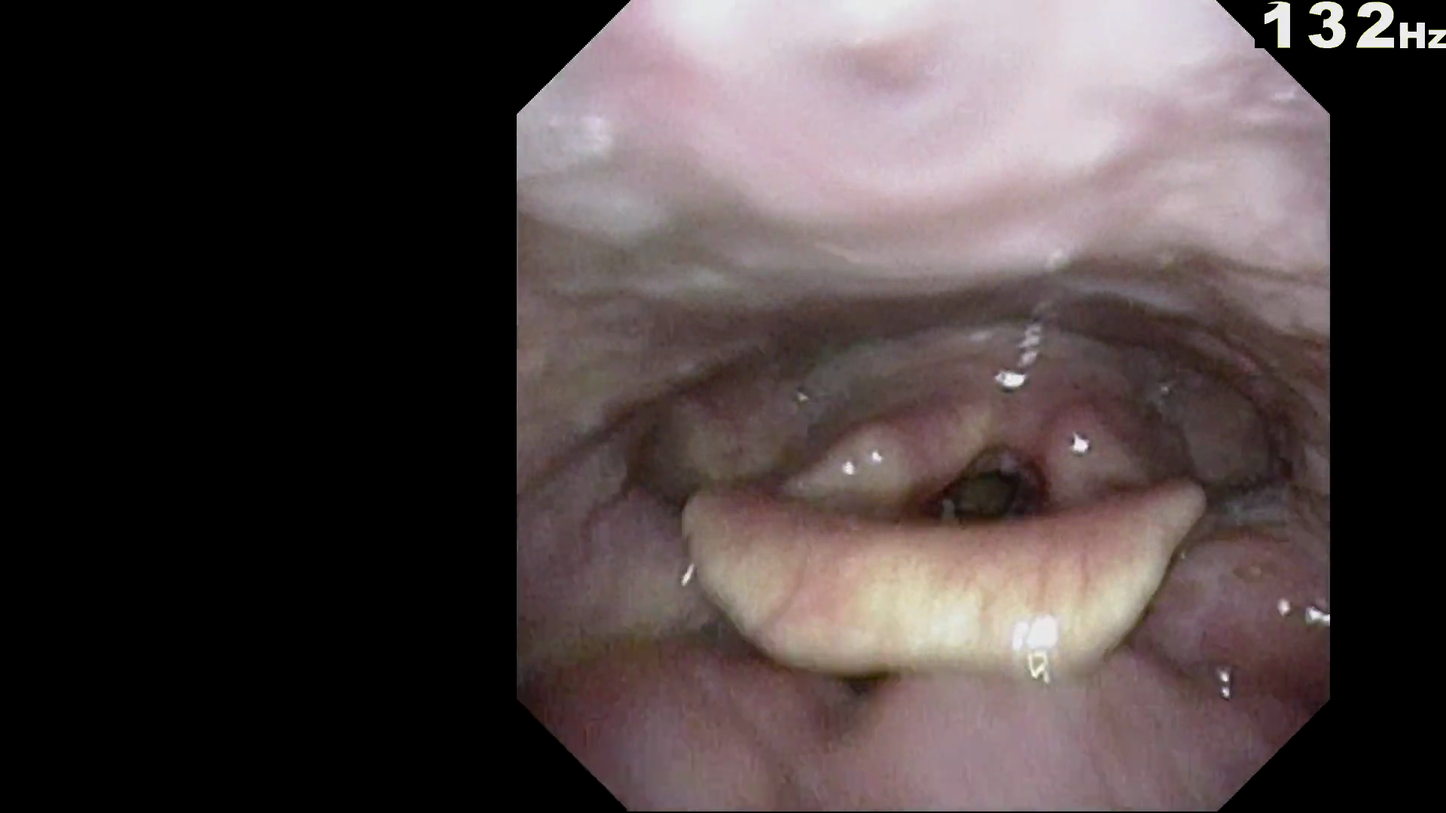epiglottis: (682, 488, 1218, 669)
trachea: (933, 445, 1051, 563)
